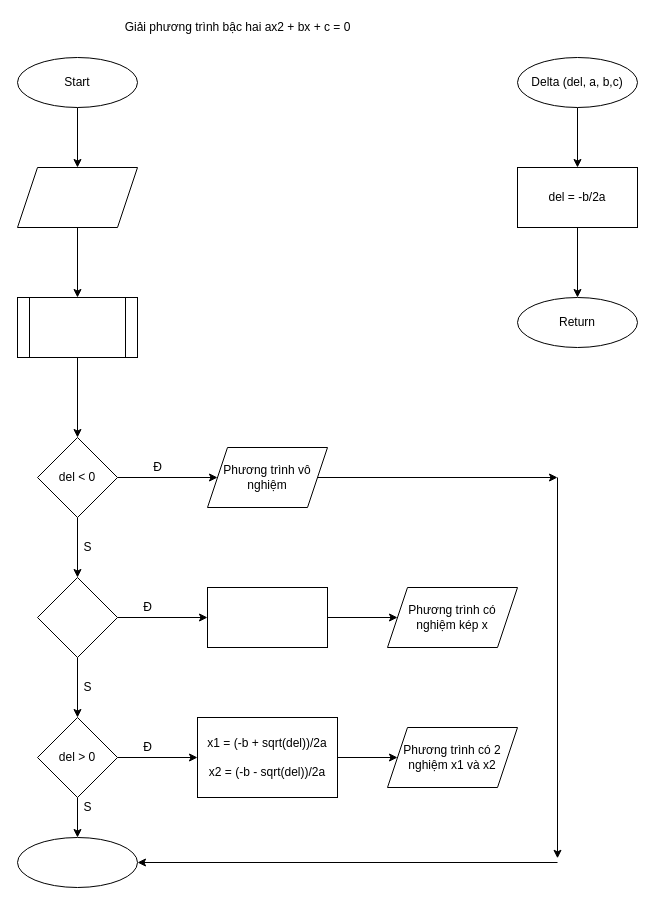
The diagram is 655 pixels wide and 905 high, and some of its shapes have lost their labels. Here are the shapes that lost their labels. From the top down, the centre of each, then its label:
At pixel 77 197: "Nhập a, b, c".
At pixel 77 327: "Delta( del, a, b, c)".
At pixel 77 617: "del = 0".
At pixel 267 617: "x = -b / 2a".
At pixel 77 862: "End".
